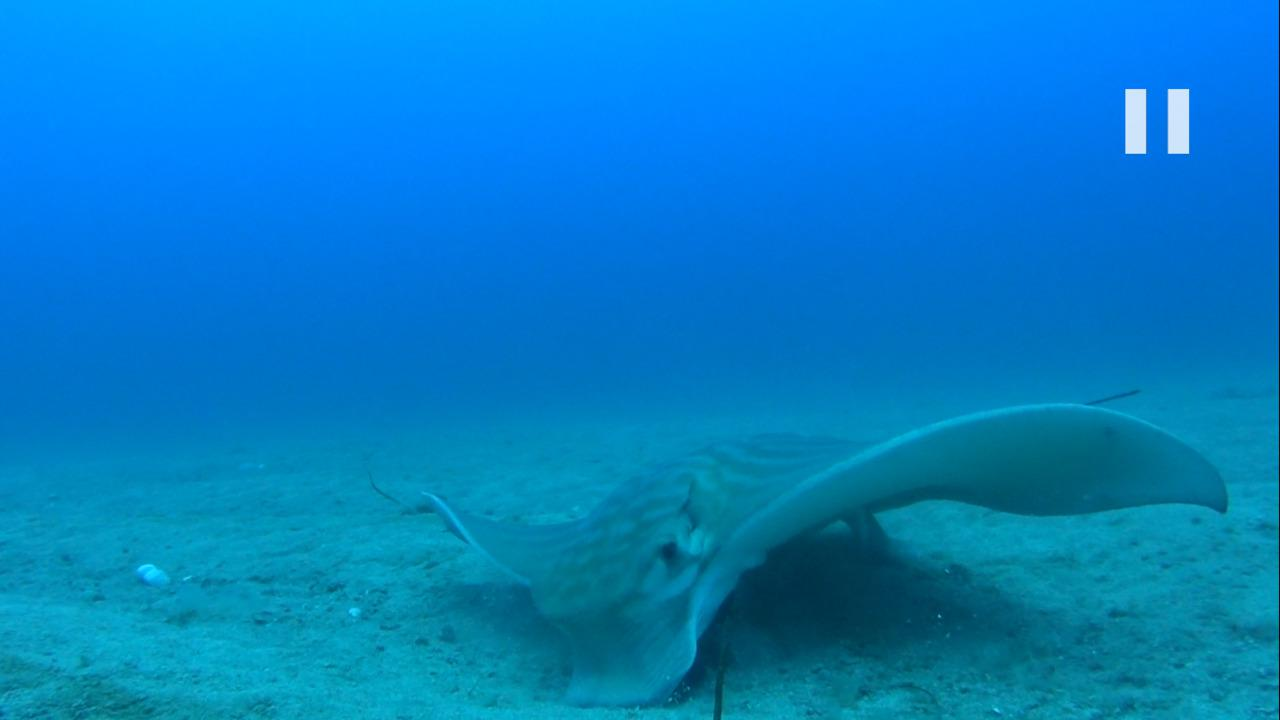myliobatis: (391, 382, 1240, 712)
